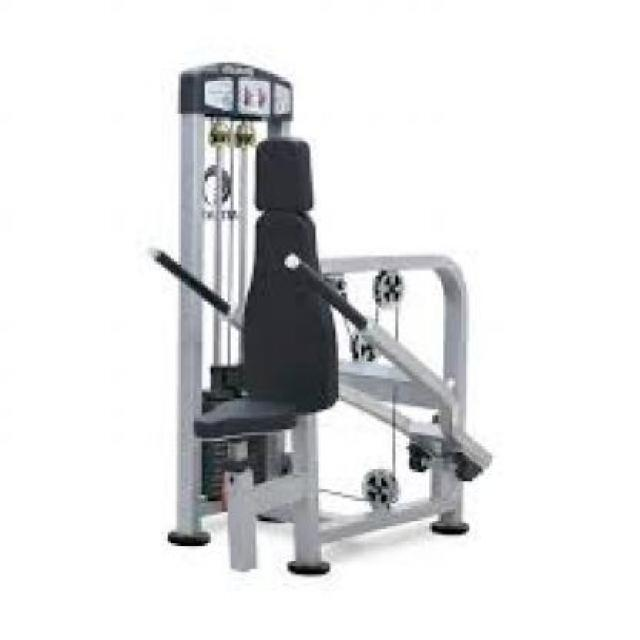seated dip machine: (145, 60, 497, 582)
